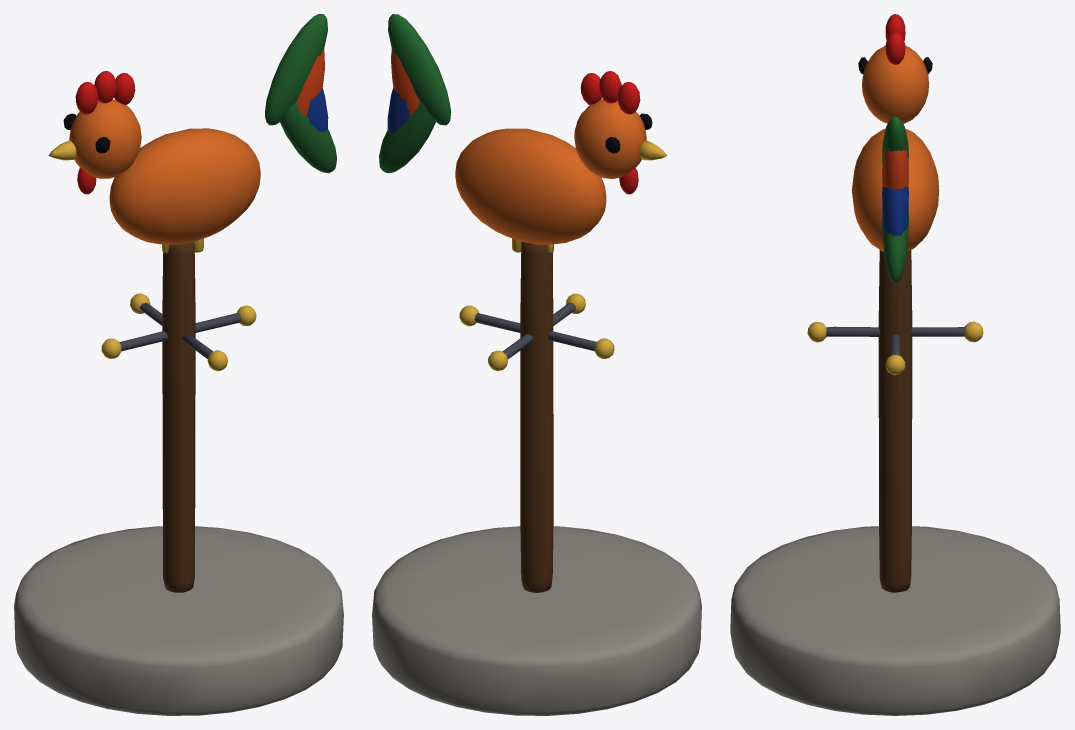
File: Wetterhahn.fbx
3 views of the same model, side by side, from view 1: azimuth 30°, elevation 25°; view 2: azimuth 150°, elevation 25°; view 3: azimuth 270°, elevation 25° (orthographic).
Parts seen in each view (by area): view 1: Wetterhahn; view 2: Wetterhahn; view 3: Wetterhahn.
Part boxes in pixels (x1=…): Wetterhahn: x1=14, y1=14, x2=343, y2=715; Wetterhahn: x1=372, y1=14, x2=701, y2=715; Wetterhahn: x1=730, y1=14, x2=1060, y2=715.
Bounding box in the file's own units: 0.9805 × 1.88 × 0.9339.
